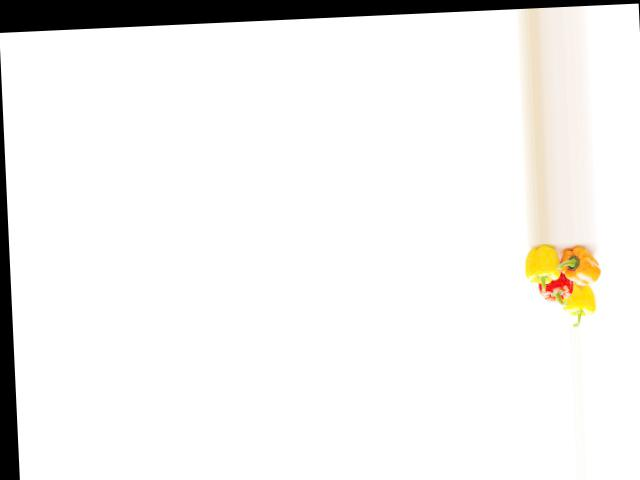bell_pepper: (522, 243, 571, 291)
